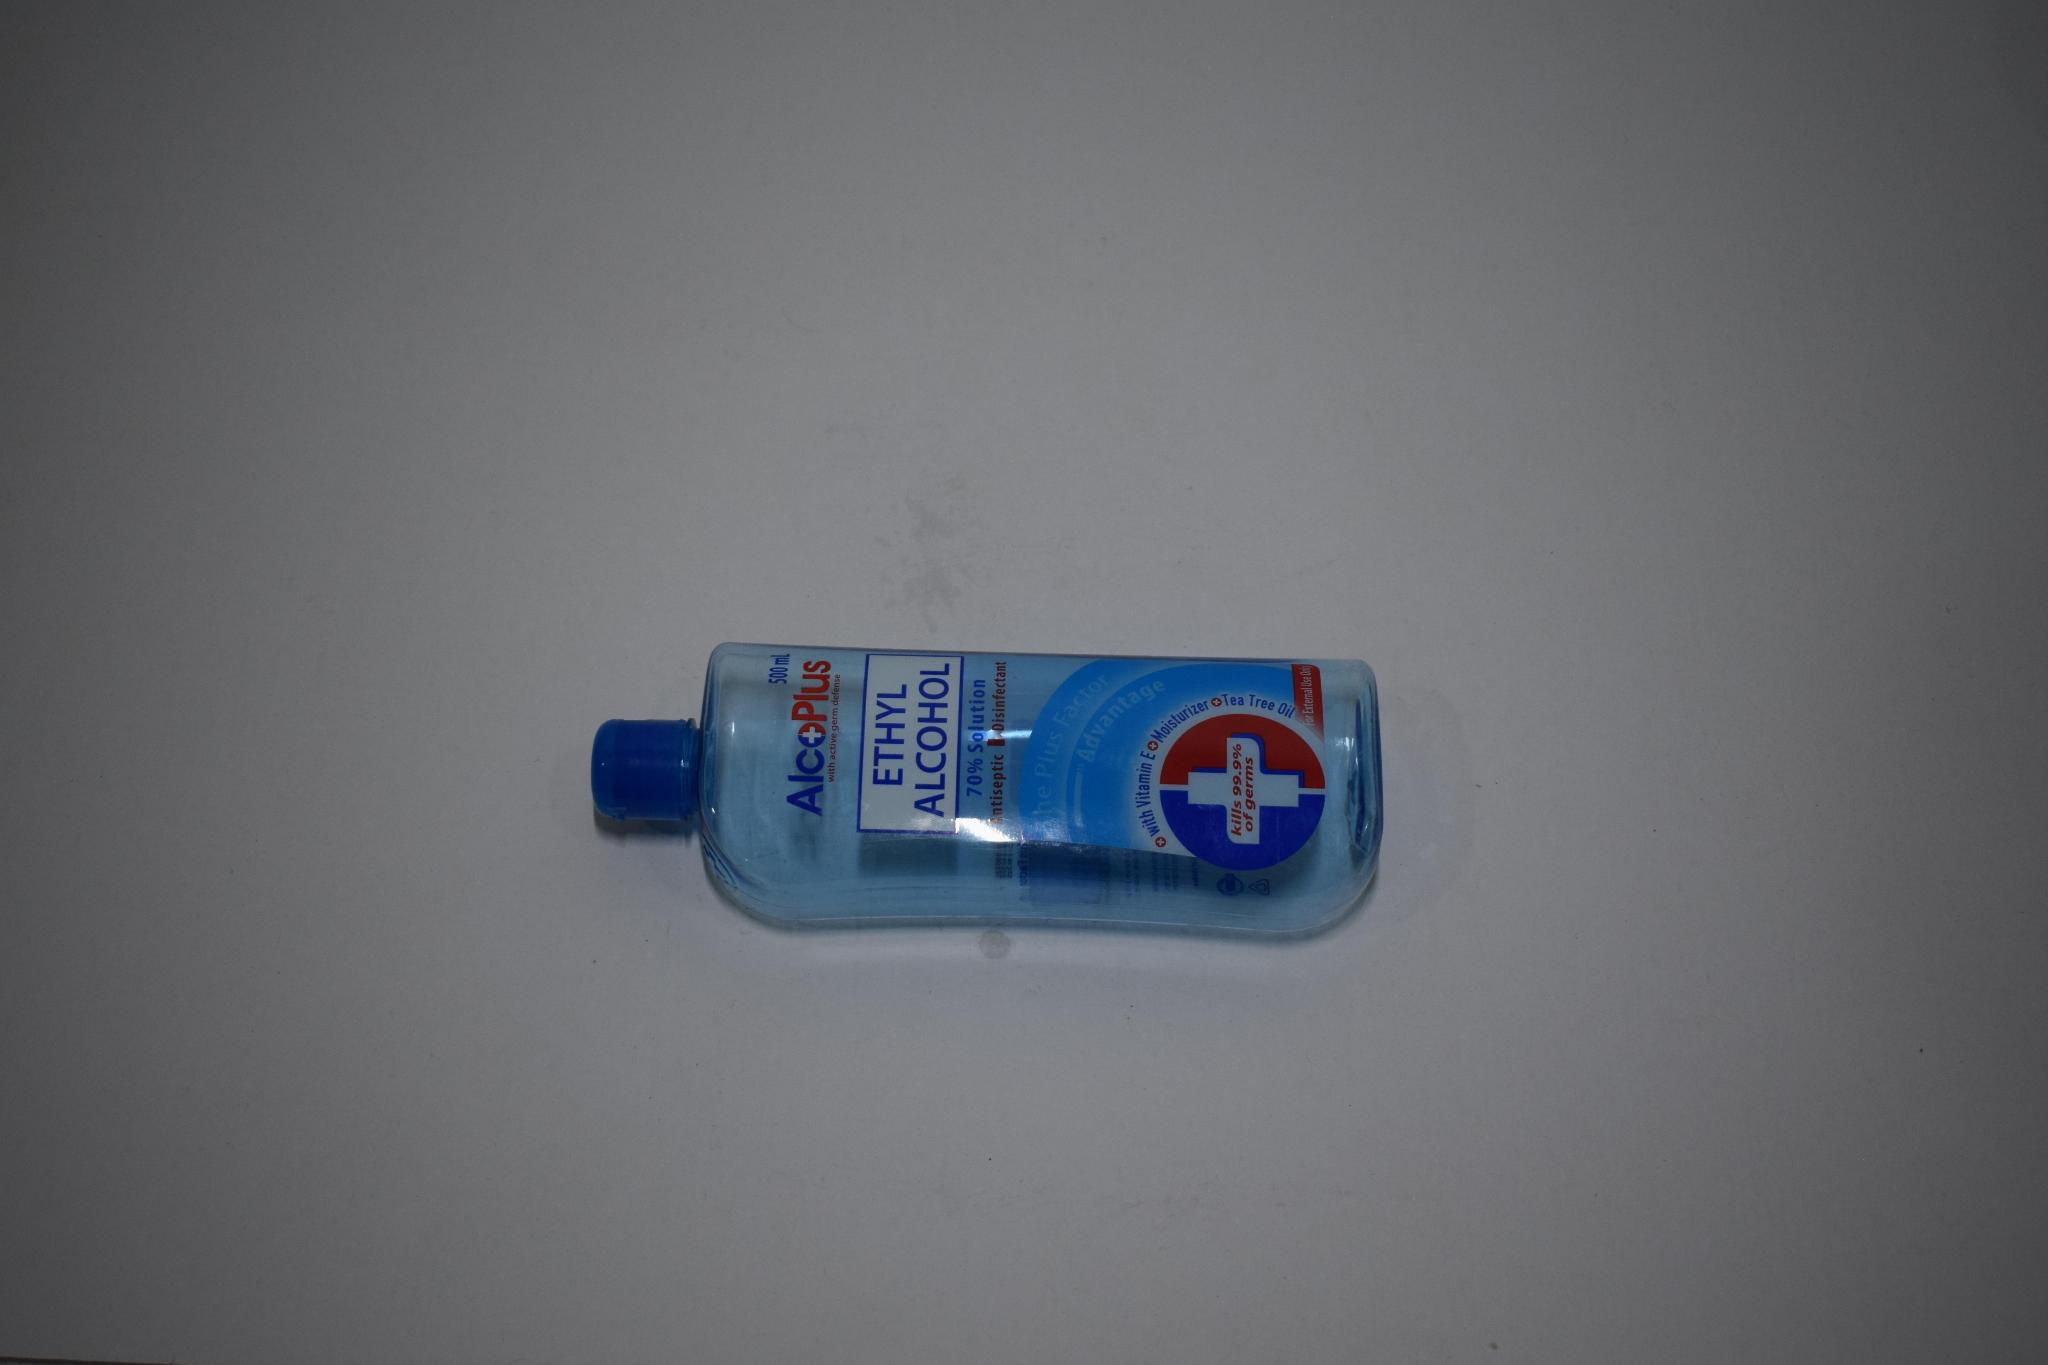bottle: (574, 628, 1387, 932)
